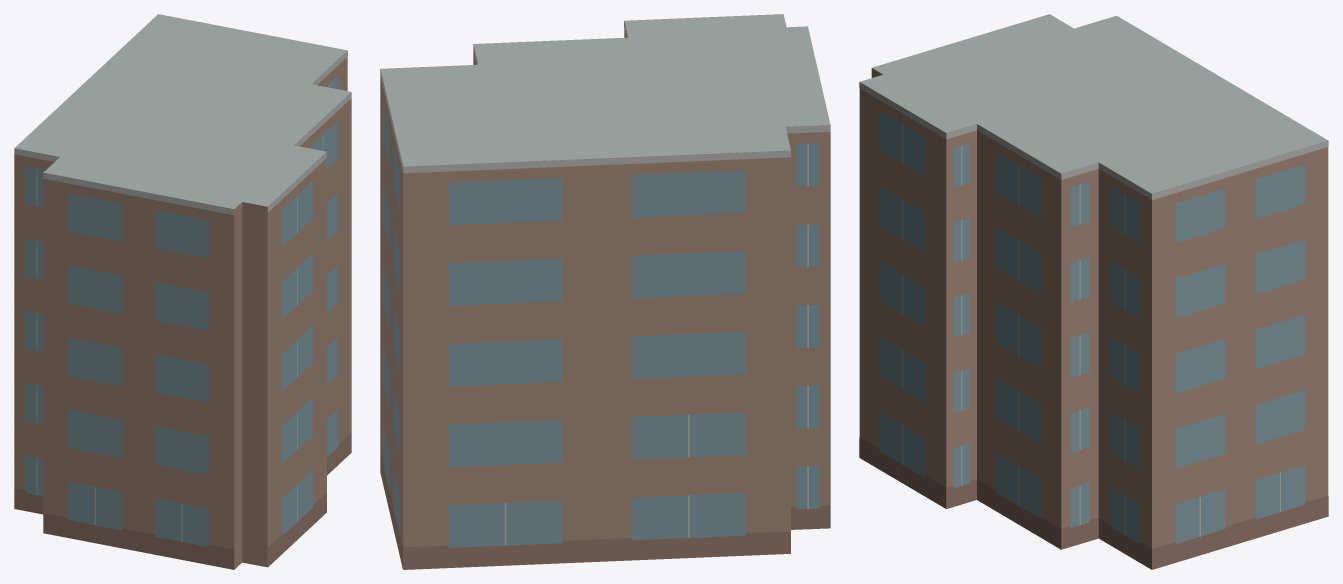
The model's file is residential-4df03003-2852-4259-b2c5-71f9149f1306.glb.
3 views of the same model, side by side, from view 1: azimuth 30°, elevation 25°; view 2: azimuth 150°, elevation 25°; view 3: azimuth 270°, elevation 25° (orthographic). The views are drawn at different scales.
Parts seen in each view (by area): view 1: residential-4df03003-2852-4259-b2c5-71f9149f1306.tmp; view 2: residential-4df03003-2852-4259-b2c5-71f9149f1306.tmp; view 3: residential-4df03003-2852-4259-b2c5-71f9149f1306.tmp.
Boxes of the visible parts, box(x1,y1,x2,y2) form: residential-4df03003-2852-4259-b2c5-71f9149f1306.tmp: box(14, 14, 351, 569); residential-4df03003-2852-4259-b2c5-71f9149f1306.tmp: box(380, 14, 830, 569); residential-4df03003-2852-4259-b2c5-71f9149f1306.tmp: box(859, 14, 1328, 569).
Size of the model in its own units: 14.78 by 14.4 by 16.28.
